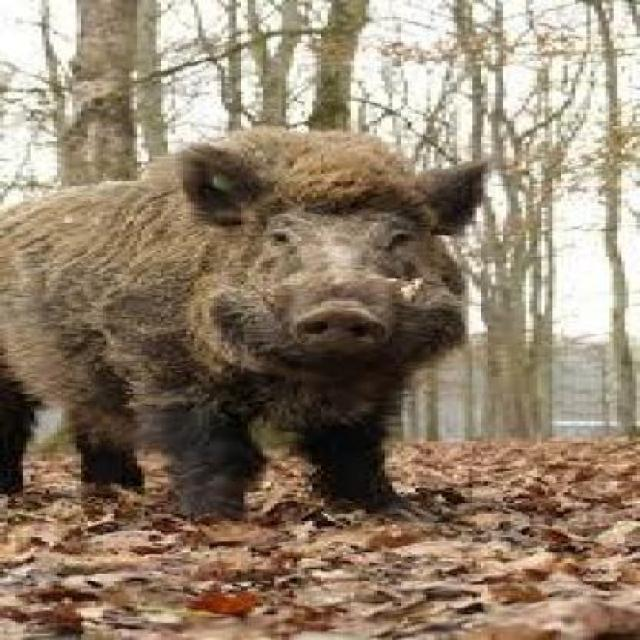wildboar: (0, 120, 503, 531)
